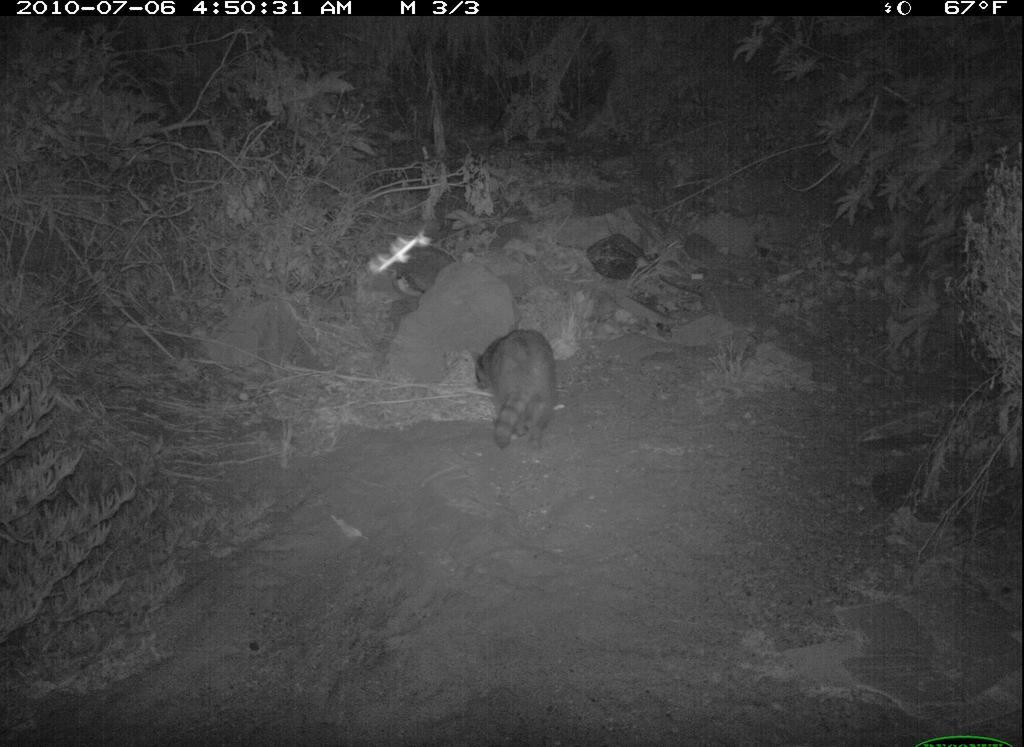raccoon: (451, 301, 573, 461)
